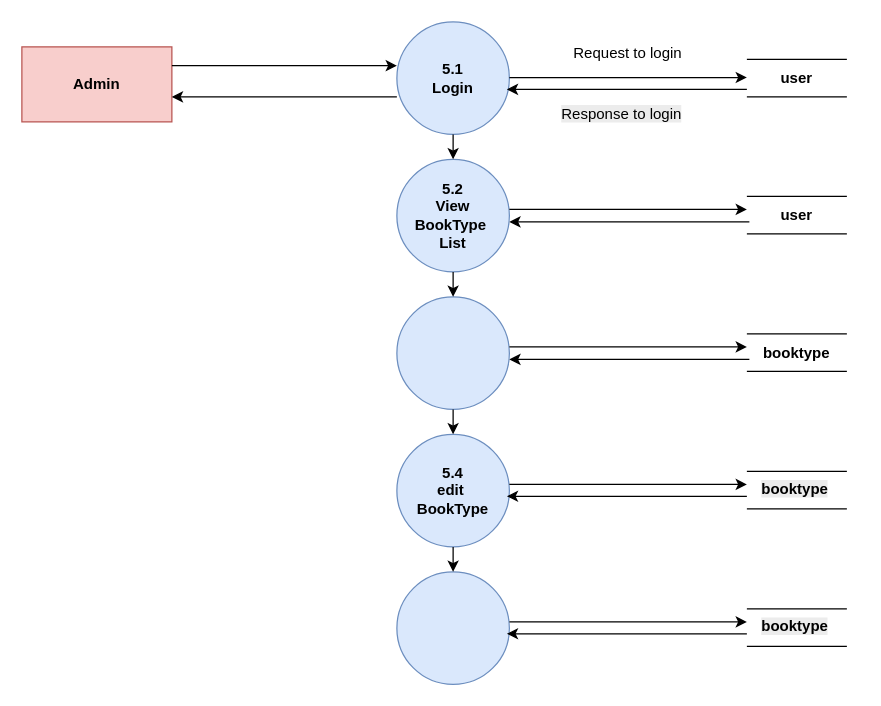
Image size: 881x706. Some labels were removed from this diagram. The shapes that lost their labels are listed below. From the top down, each one's centre as x and y in pixels, then its label:
(452,352): 5.3 Add BookType
(452,627): 5.5 delete BookType
